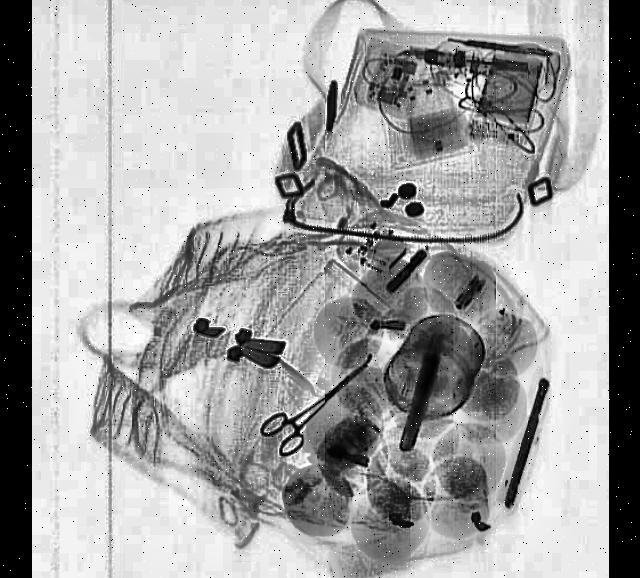Scissors: (255, 336, 381, 464)
